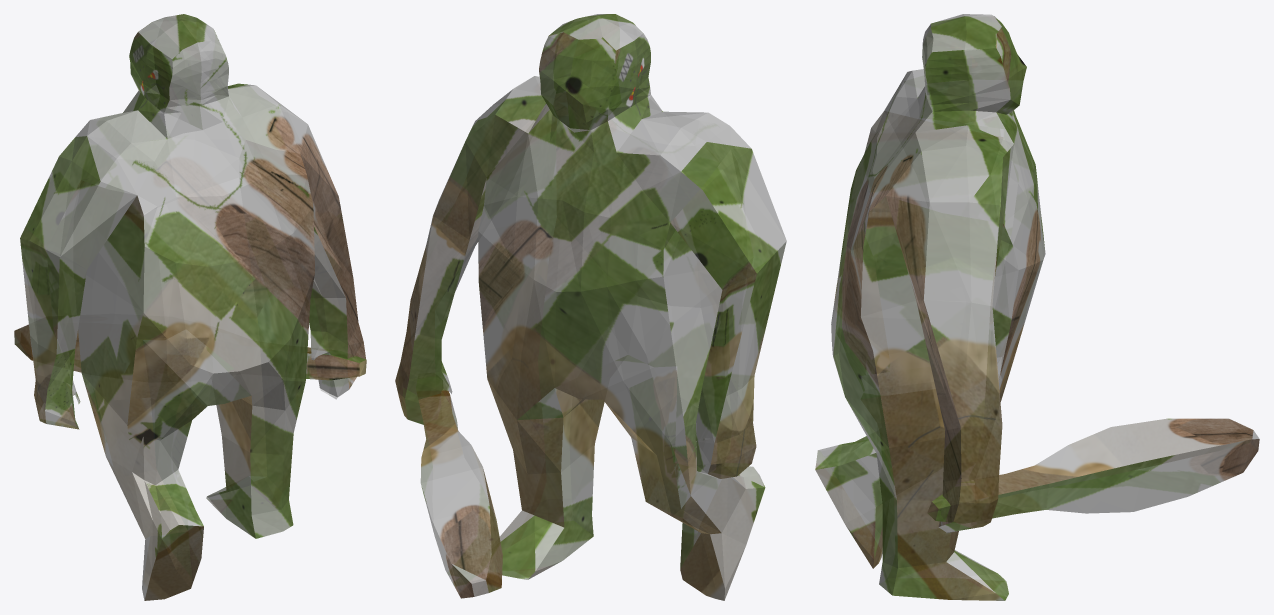
File: Enemigo217.obj
The picture shows the model from 3 angles, left to right: view 1: azimuth 30°, elevation 25°; view 2: azimuth 150°, elevation 25°; view 3: azimuth 270°, elevation 25°; orthographic projection. The views are drawn at different scales.
Visible parts, largest first — view 1: Cube; view 2: Cube; view 3: Cube.
Part boxes in pixels (x1,y1,x2,y2): Cube: (14, 14, 366, 600); Cube: (395, 14, 786, 600); Cube: (815, 14, 1259, 600).
Bounding box in the file's own units: 1.85 × 2.84 × 1.98.
